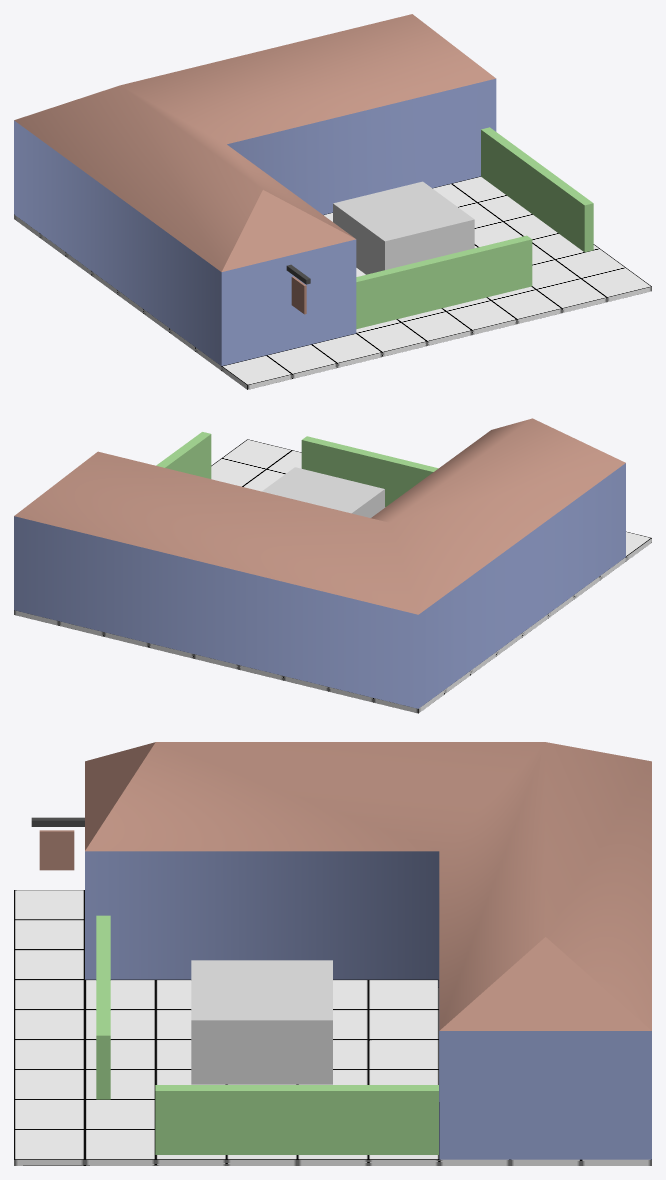
Rendered from XG_Baker.glb.
The picture shows the model from 3 angles, top to bottom: view 1: azimuth 30°, elevation 25°; view 2: azimuth 150°, elevation 25°; view 3: azimuth 270°, elevation 25°; orthographic projection. The views are drawn at different scales.
Visible parts, largest first — view 1: building_7m_3m_g_shape_016, ground_9_x_9_026, Box646, Box648, Box647; view 2: building_7m_3m_g_shape_016, ground_9_x_9_026, Box646, Box648, Box647; view 3: building_7m_3m_g_shape_016, ground_9_x_9_026, Box647, Box648, Box646, Box650.
Part boxes in pixels (x1=…): building_7m_3m_g_shape_016: x1=14, y1=14, x2=496, y2=366; ground_9_x_9_026: x1=14, y1=176, x2=651, y2=389; Box646: x1=356, y1=235, x2=532, y2=329; Box648: x1=333, y1=181, x2=474, y2=274; Box647: x1=481, y1=127, x2=593, y2=252; building_7m_3m_g_shape_016: x1=14, y1=418, x2=625, y2=708; ground_9_x_9_026: x1=14, y1=439, x2=651, y2=713; Box646: x1=301, y1=436, x2=438, y2=507; Box648: x1=262, y1=467, x2=384, y2=517; Box647: x1=156, y1=432, x2=211, y2=478; building_7m_3m_g_shape_016: x1=85, y1=742, x2=651, y2=1159; ground_9_x_9_026: x1=14, y1=890, x2=651, y2=1165; Box647: x1=155, y1=1085, x2=438, y2=1154; Box648: x1=191, y1=960, x2=332, y2=1084; Box646: x1=96, y1=915, x2=110, y2=1099; Box650: x1=39, y1=830, x2=74, y2=870.
Size of the model in its own units: 9 by 3.1 by 9.
Materials: 5 (1 with a texture image).
